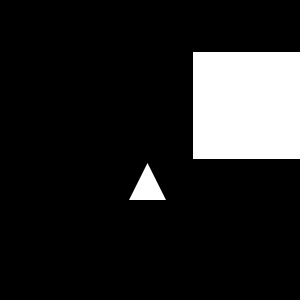circle: (193, 52, 300, 159)
triangle: (129, 163, 166, 200)
